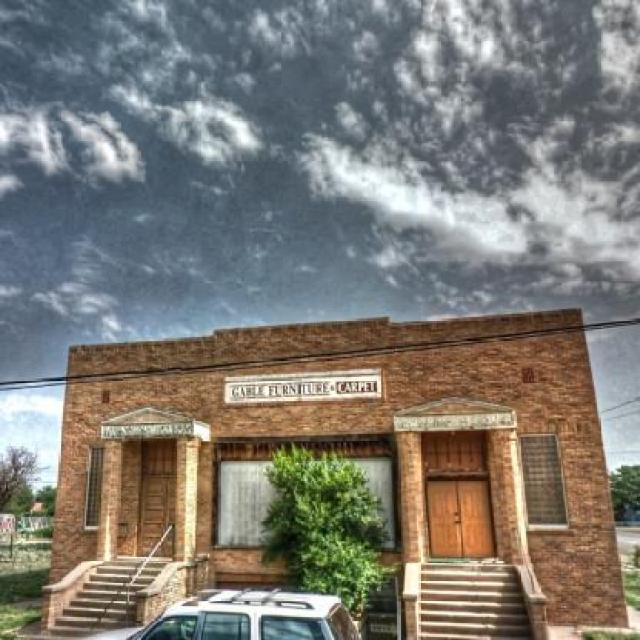stair: (422, 532, 536, 640), (42, 544, 165, 628)
